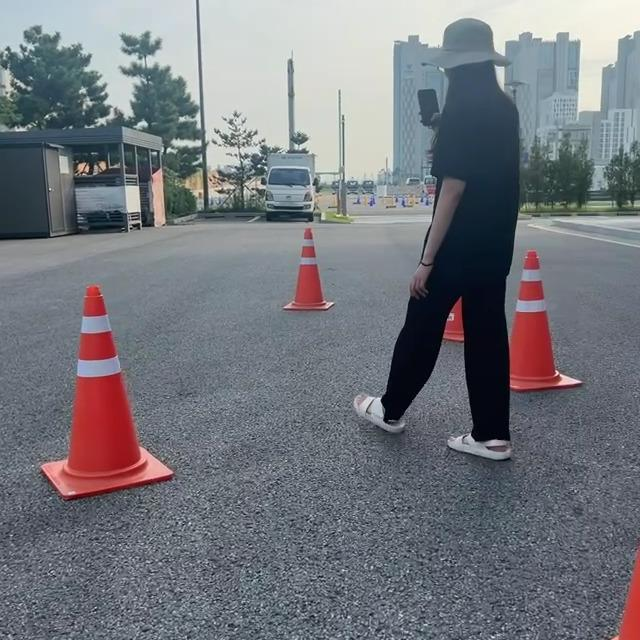fallen_object: (43, 302, 156, 486), (495, 256, 594, 464), (269, 159, 376, 327)
